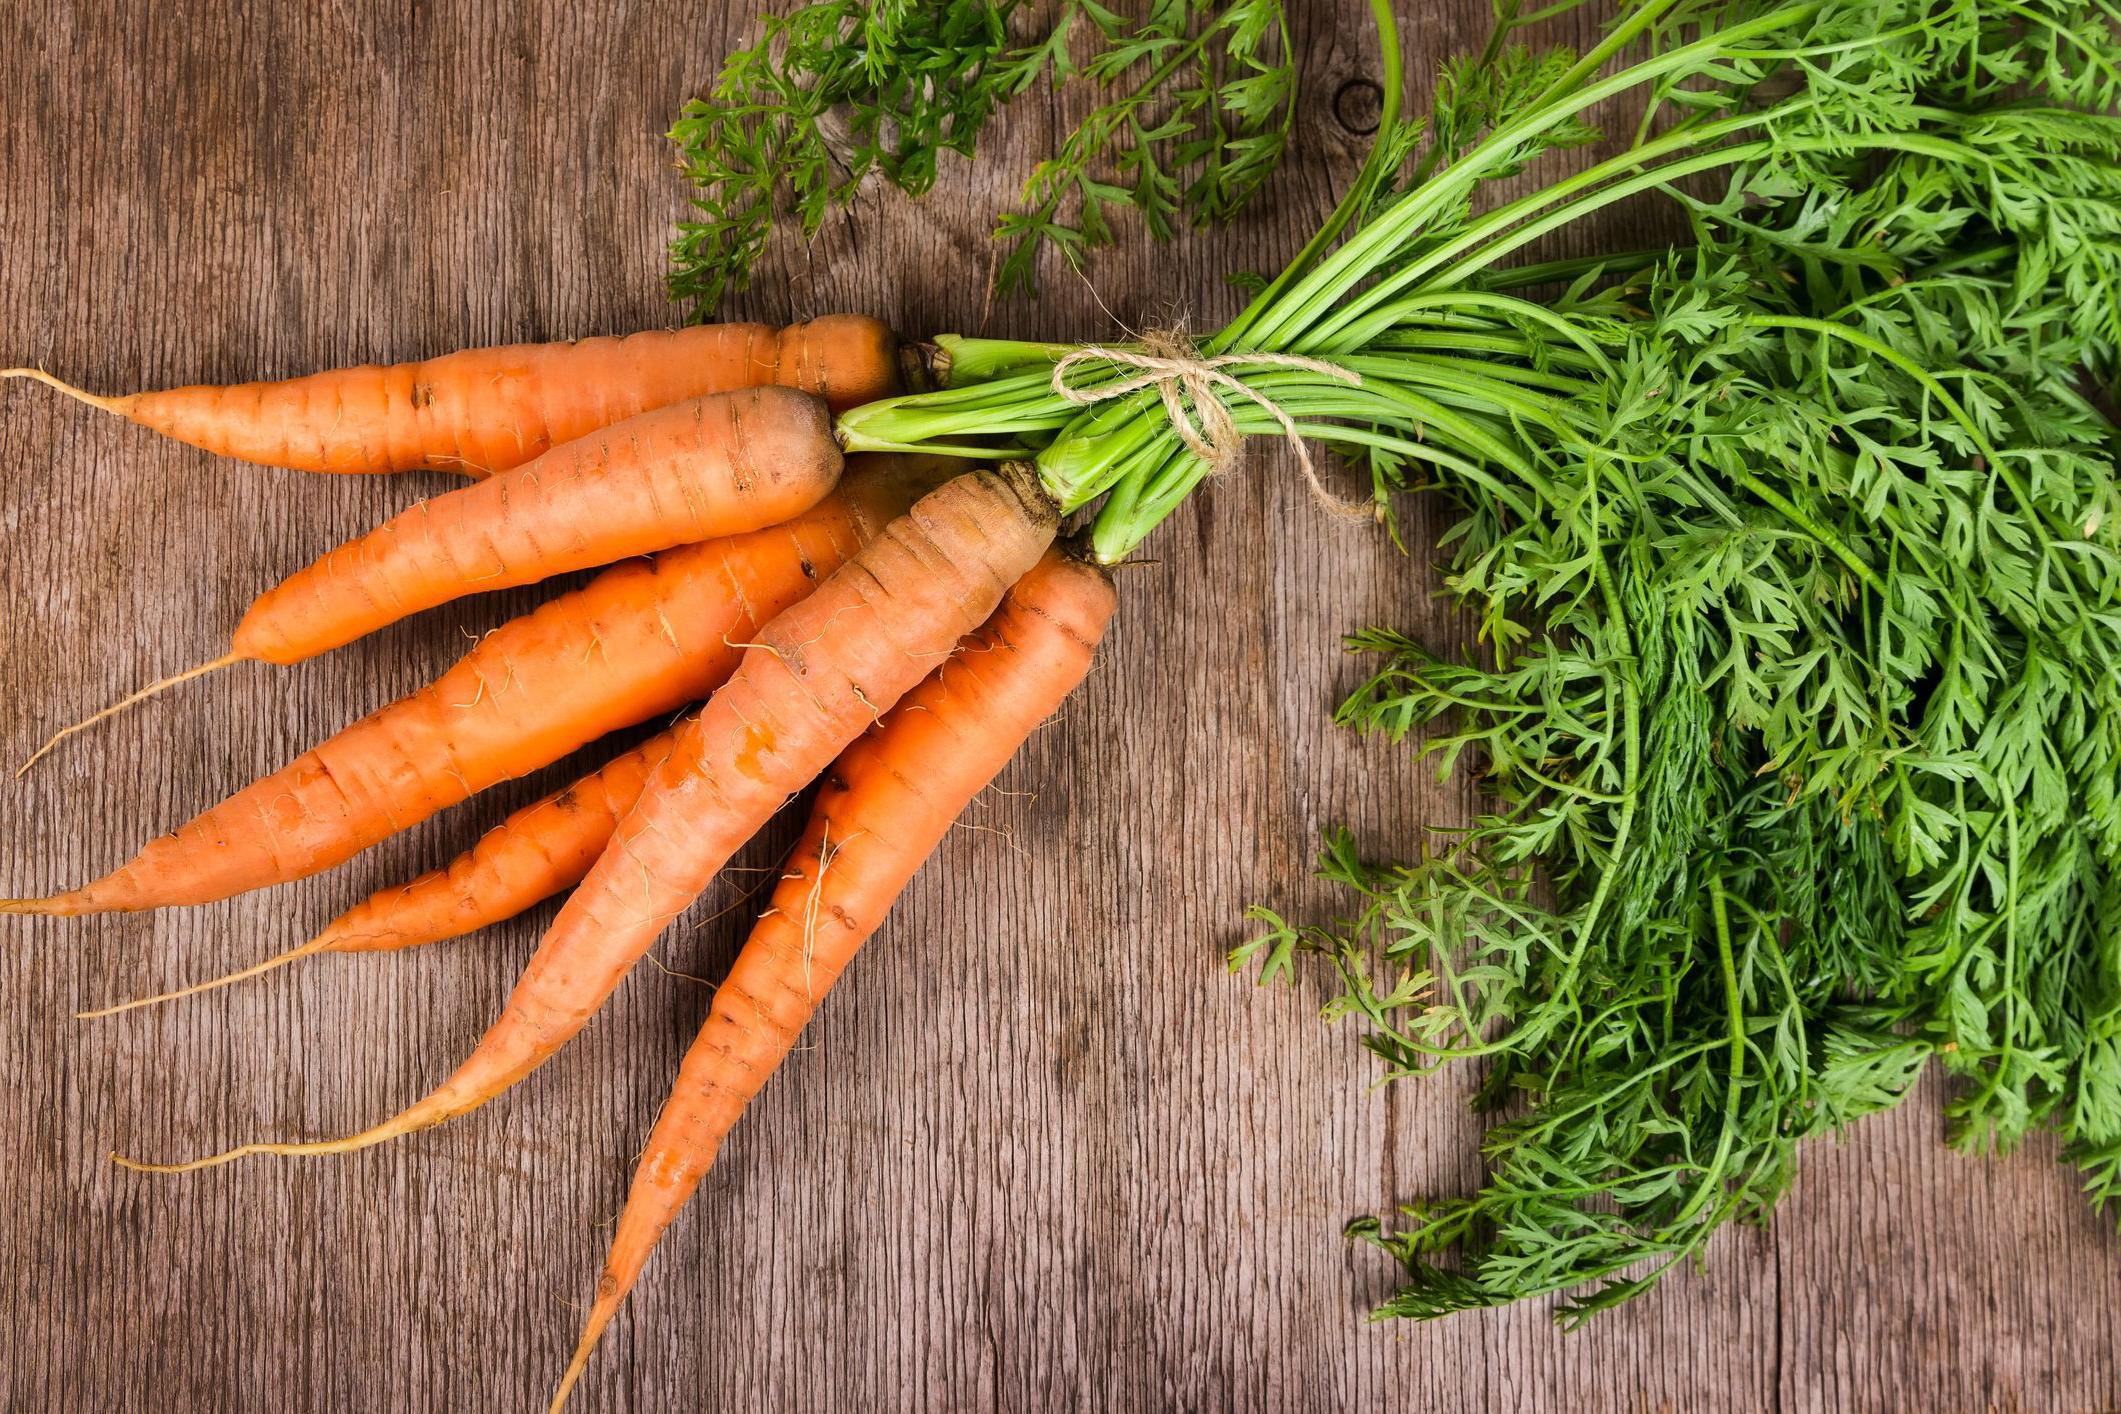carrot: (0, 327, 1128, 1414)
